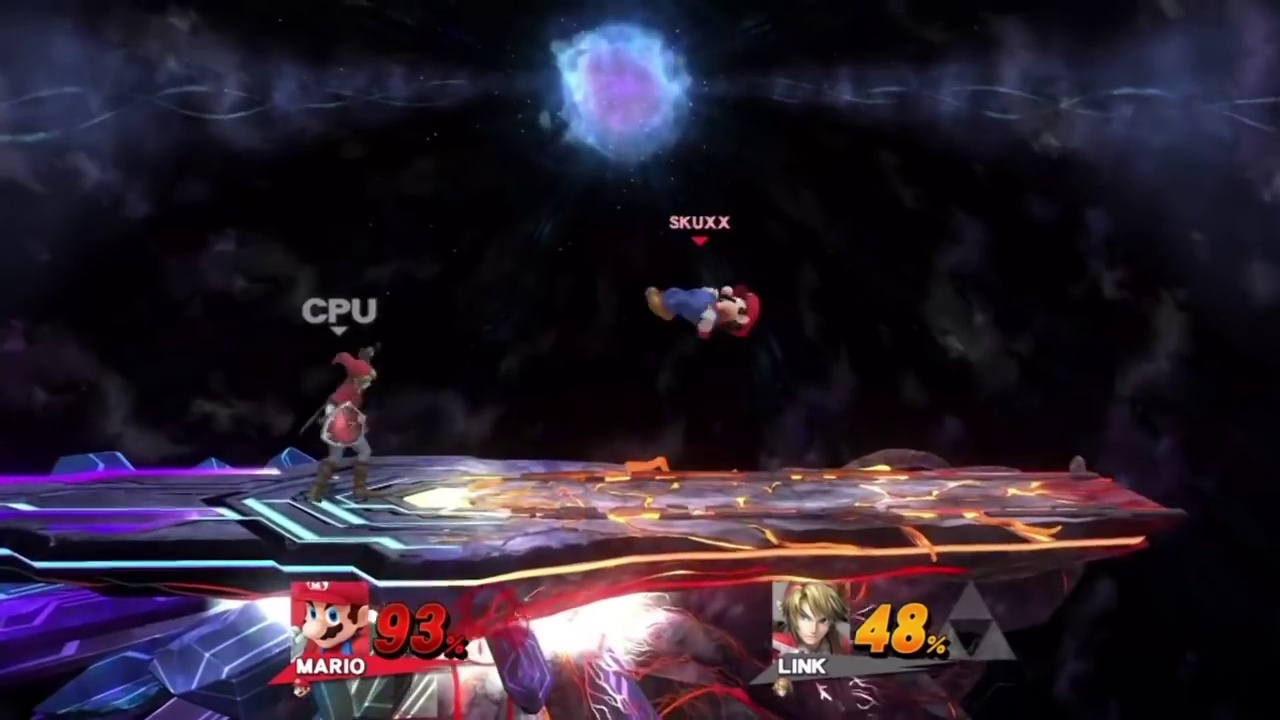Mario: (643, 282, 761, 345)
